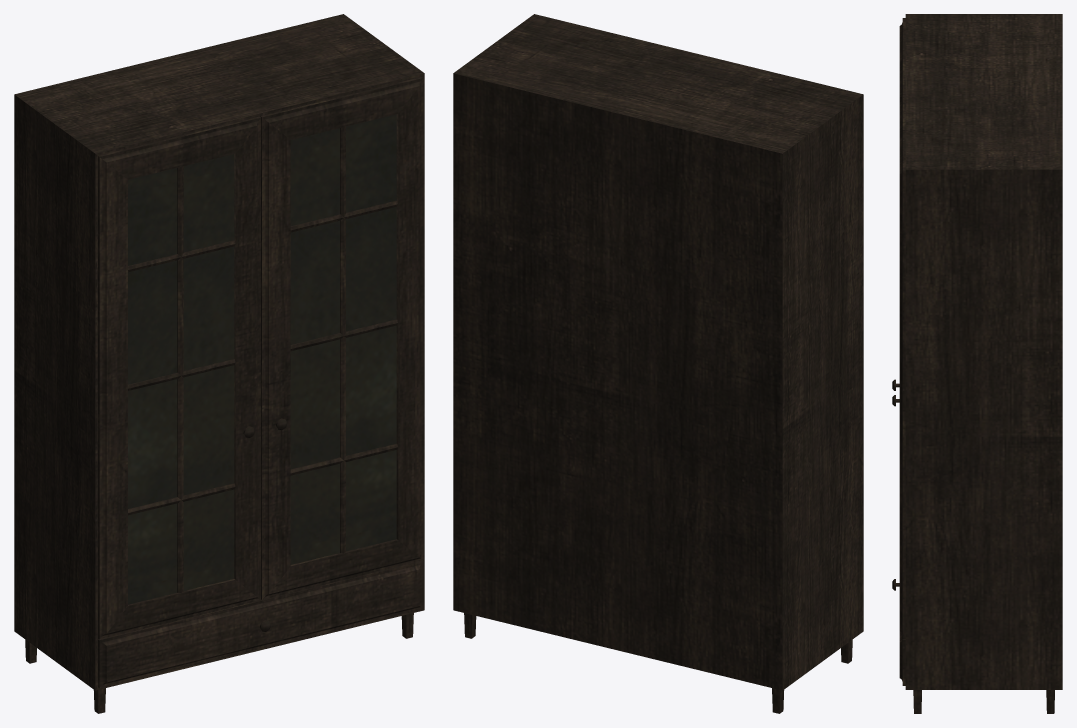
Rendered from wardrobe_mp_2_2.dae.
3 renders of one model, left to right at view 1: azimuth 30°, elevation 25°; view 2: azimuth 150°, elevation 25°; view 3: azimuth 270°, elevation 25°, orthographic. The views are drawn at different scales.
Parts seen in each view (by area): view 1: wardrobe_mp_2_2, wardrobe_mp_2_2_drawer; view 2: wardrobe_mp_2_2; view 3: wardrobe_mp_2_2, wardrobe_mp_2_2_drawer.
Boxes of the visible parts, x1,y1,x2,y2 form: wardrobe_mp_2_2: (14,14,424,713); wardrobe_mp_2_2_drawer: (98,561,423,688); wardrobe_mp_2_2: (453,14,863,713); wardrobe_mp_2_2: (892,14,1062,713); wardrobe_mp_2_2_drawer: (892,579,905,685).
Size of the model in its own units: 1.22 by 0.5645 by 2.
2 materials, 2 textured.
